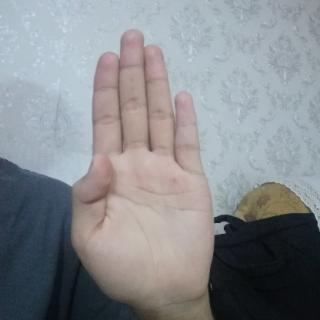SEEN: (61, 27, 219, 313)
